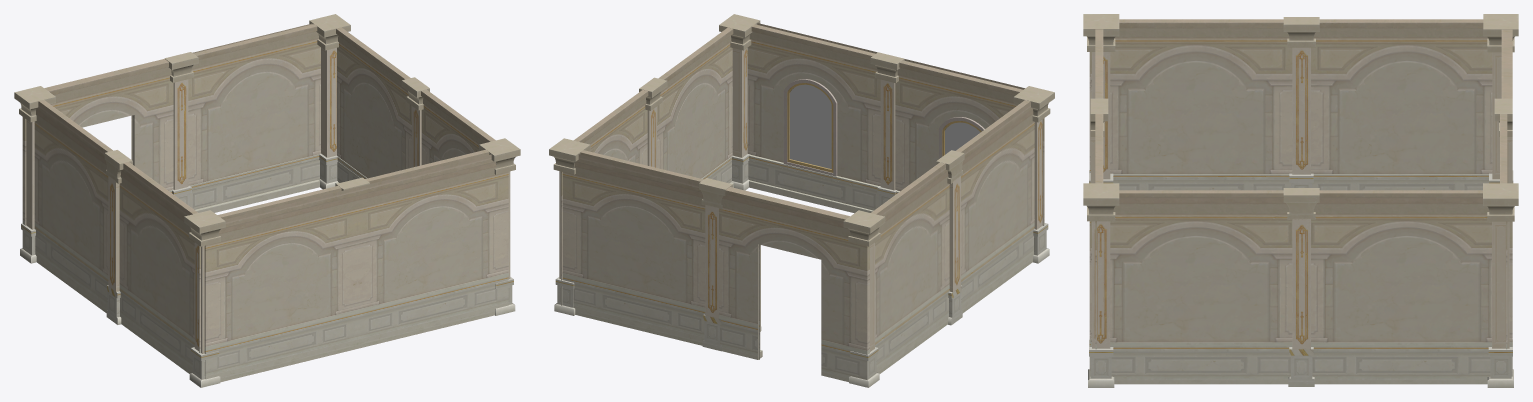
File: Homeworld_Interior_Fd_Room_H_Wall_01_Vo.fbx
3 renders of one model, left to right at view 1: azimuth 30°, elevation 25°; view 2: azimuth 150°, elevation 25°; view 3: azimuth 270°, elevation 25°, orthographic. The views are drawn at different scales.
Visible parts, largest first — view 1: Homeworld_Interior_Fd_Room_H_Filling_01_Vo, Homeworld_Interior_Fd_Room_Wall_01_Vo (×5), Homeworld_Interior_Fd_Room_Pillar_01_Vo (×4), Homeworld_Interior_Fd_Room_Wall_06_Vo, Homeworld_Interior_Fd_Room_Pillar_02_Vo (×3), Homeworld_Interior_Fd_Room_Wall_02_Vo (×2); view 2: Homeworld_Interior_Fd_Room_H_Filling_01_Vo, Homeworld_Interior_Fd_Room_Wall_02_Vo (×2), Homeworld_Interior_Fd_Room_Wall_06_Vo, Homeworld_Interior_Fd_Room_Wall_01_Vo (×5), Homeworld_Interior_Fd_Room_Pillar_01_Vo (×4), Homeworld_Interior_Fd_Room_Pillar_02_Vo (×4); view 3: Homeworld_Interior_Fd_Room_Wall_01_Vo (×5), Homeworld_Interior_Fd_Room_Pillar_01_Vo (×4), Homeworld_Interior_Fd_Room_Pillar_02_Vo (×4), Homeworld_Interior_Fd_Room_Wall_02_Vo (×2), Homeworld_Interior_Fd_Room_Wall_06_Vo, Homeworld_Interior_Fd_Room_H_Filling_01_Vo.
Boxes of the visible parts, box(x1,y1,x2,y2) form: Homeworld_Interior_Fd_Room_H_Filling_01_Vo: box(34, 23, 508, 382); Homeworld_Interior_Fd_Room_Wall_01_Vo (×5): box(38, 24, 495, 214); Homeworld_Interior_Fd_Room_Pillar_01_Vo (×4): box(14, 14, 520, 387); Homeworld_Interior_Fd_Room_Wall_06_Vo: box(22, 59, 173, 248); Homeworld_Interior_Fd_Room_Pillar_02_Vo (×3): box(104, 52, 429, 324); Homeworld_Interior_Fd_Room_Wall_02_Vo (×2): box(199, 149, 489, 352); Homeworld_Interior_Fd_Room_H_Filling_01_Vo: box(562, 23, 1034, 373); Homeworld_Interior_Fd_Room_Wall_02_Vo (×2): box(747, 24, 1044, 225); Homeworld_Interior_Fd_Room_Wall_06_Vo: box(719, 187, 869, 381); Homeworld_Interior_Fd_Room_Wall_01_Vo (×5): box(561, 27, 1030, 305); Homeworld_Interior_Fd_Room_Pillar_01_Vo (×4): box(549, 14, 1054, 387); Homeworld_Interior_Fd_Room_Pillar_02_Vo (×4): box(639, 52, 964, 351); Homeworld_Interior_Fd_Room_Wall_01_Vo (×5): box(1090, 19, 1512, 384); Homeworld_Interior_Fd_Room_Pillar_01_Vo (×4): box(1083, 14, 1518, 387); Homeworld_Interior_Fd_Room_Pillar_02_Vo (×4): box(1090, 17, 1512, 386); Homeworld_Interior_Fd_Room_Wall_02_Vo (×2): box(1095, 29, 1103, 349); Homeworld_Interior_Fd_Room_Wall_06_Vo: box(1501, 29, 1512, 98); Homeworld_Interior_Fd_Room_H_Filling_01_Vo: box(1089, 52, 1090, 376).
Size of what is drawn, in the model's own units: 10.35 by 5.01 by 10.33.
